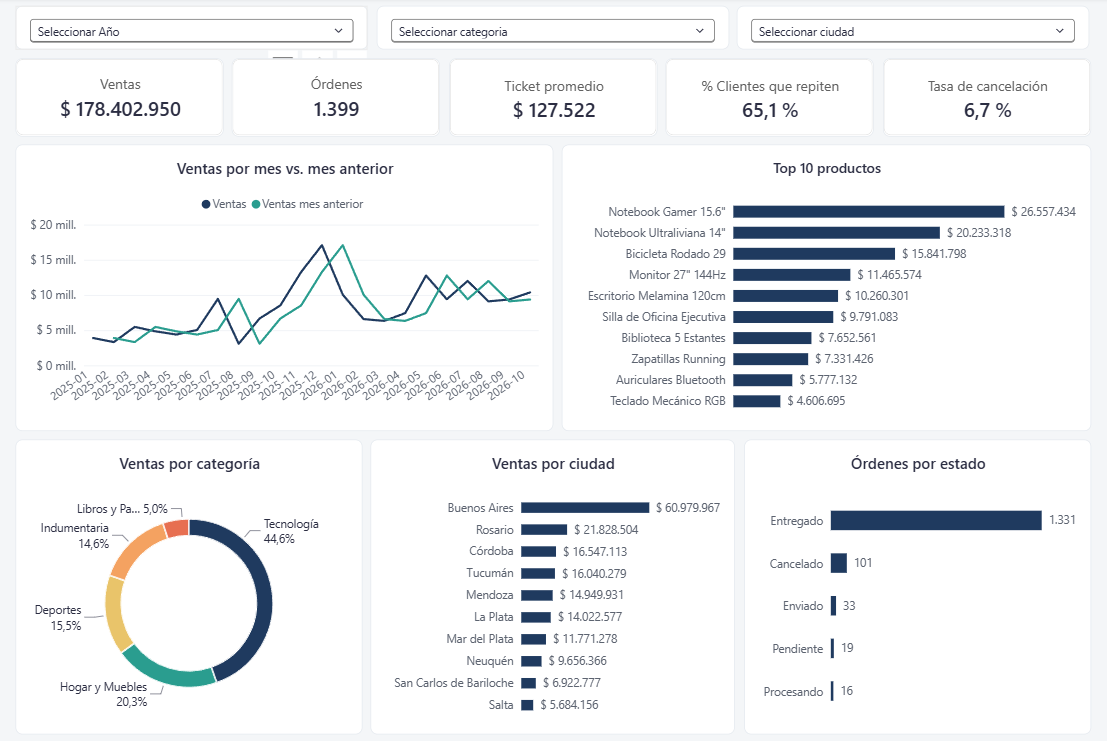

The page's visual inventory and layout, read from the dashboard file:
{"tool":"powerbi","page":{"name":"Página 1","canvas":[1280,860],"ordinal":0},"visuals":[{"type":"lineChart","title":"Ventas por mes vs. mes anterior","fields":{"Category":["Calendario.Año-Mes"],"Y":["vw_ventas.Ventas","vw_ventas.Ventas mes anterior"]},"box":[20,170,620,330],"z":1000},{"type":"clusteredBarChart","title":"Top 10 productos","fields":{"Category":["vw_ventas.producto"],"Y":["vw_ventas.Ventas"]},"box":[650,170,610,330],"z":2000},{"type":"donutChart","title":"Ventas por categoría","fields":{"Category":["vw_ventas.categoria"],"Y":["vw_ventas.Ventas"]},"box":[20,510,400,340],"z":3000},{"type":"clusteredBarChart","fields":{"Category":["vw_ventas.ciudad"],"Y":["vw_ventas.Ventas"]},"box":[430,510,420,340],"z":4000},{"type":"clusteredBarChart","title":"Órdenes por estado","fields":{"Category":["vw_ventas.estado_orden"],"Y":["vw_ventas.Órdenes totales"]},"box":[860,510,400,340],"z":5000},{"type":"listSlicer","fields":{"Values":["Calendario.Año"]},"box":[20,10,406,50],"z":6000},{"type":"listSlicer","fields":{"Values":["vw_ventas.categoria"]},"box":[436,10,406,50],"z":7000},{"type":"listSlicer","fields":{"Values":["vw_ventas.ciudad"]},"box":[852,10,406,50],"z":8000},{"type":"cardVisual","fields":{"Data":["vw_ventas.Ventas"]},"box":[20,70,240,90],"z":9000},{"type":"cardVisual","fields":{"Data":["vw_ventas.Órdenes"]},"box":[270,70,240,90],"z":10000},{"type":"cardVisual","fields":{"Data":["vw_ventas.Ticket promedio"]},"box":[520,70,240,90],"z":11000},{"type":"cardVisual","fields":{"Data":["vw_ventas.% clientes recurrentes"]},"box":[770,70,240,90],"z":12000},{"type":"cardVisual","fields":{"Data":["vw_ventas.Tasa de cancelación"]},"box":[1020,70,240,90],"z":13000}]}

Visuals, with their boxes in screenshot pixels (x1, y1, x2, y2), scaled from the page's 1280x860 canvas onto the 1107x741 screenshot:
"Ventas por mes vs. mes anterior" lineChart: 17 146 554 431
"Top 10 productos" clusteredBarChart: 562 146 1090 431
"Ventas por categoría" donutChart: 17 439 363 732
clusteredBarChart - vw_ventas.ciudad x vw_ventas.Ventas: 372 439 735 732
"Órdenes por estado" clusteredBarChart: 744 439 1090 732
listSlicer - Calendario.Año: 17 9 368 52
listSlicer - vw_ventas.categoria: 377 9 728 52
listSlicer - vw_ventas.ciudad: 737 9 1088 52
cardVisual - vw_ventas.Ventas: 17 60 225 138
cardVisual - vw_ventas.Órdenes: 234 60 441 138
cardVisual - vw_ventas.Ticket promedio: 450 60 657 138
cardVisual - vw_ventas.% clientes recurrentes: 666 60 873 138
cardVisual - vw_ventas.Tasa de cancelación: 882 60 1090 138
